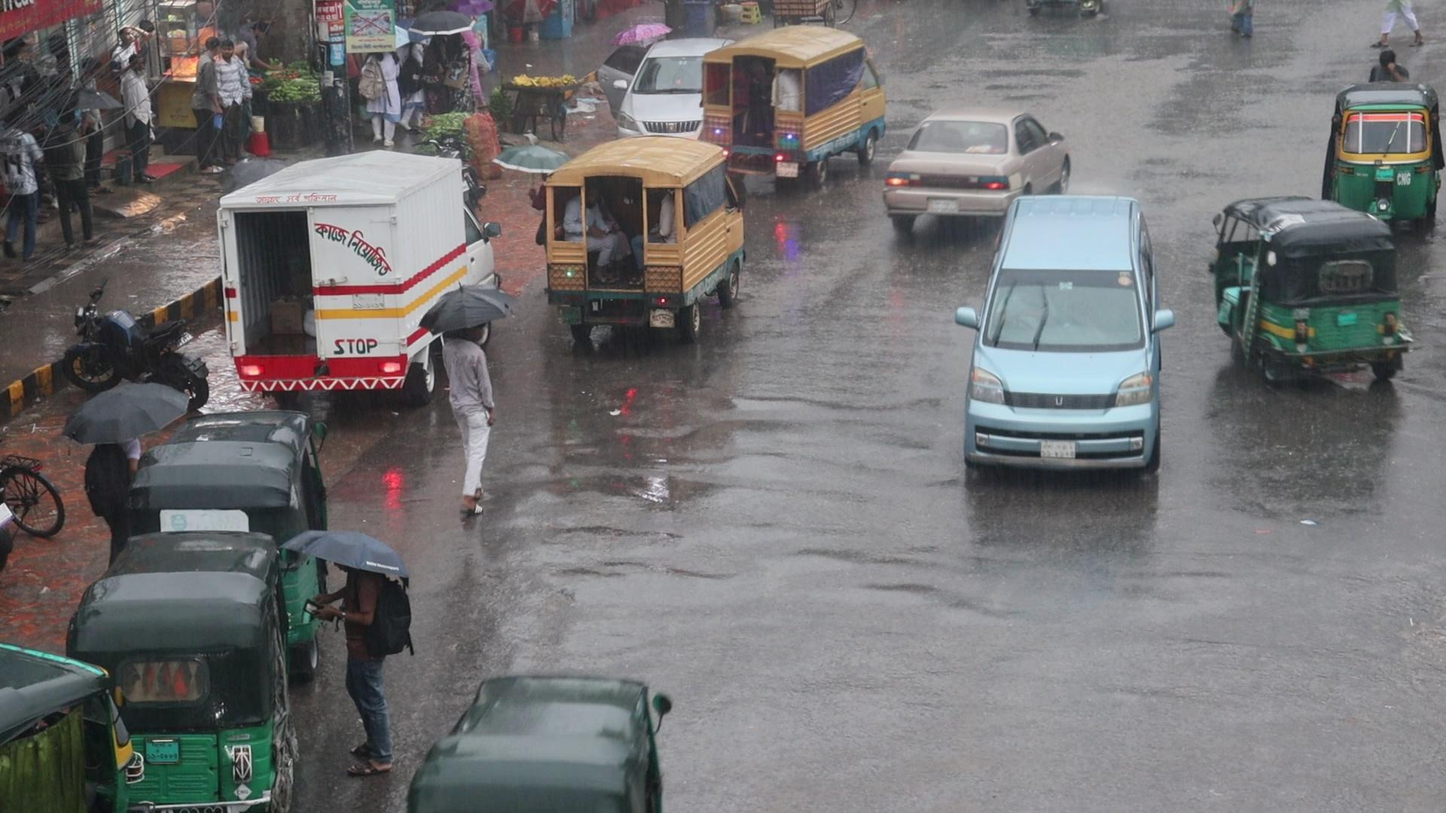Car: (957, 195, 1174, 478), (882, 108, 1071, 207)
Truck: (541, 136, 744, 341), (699, 26, 886, 153)
